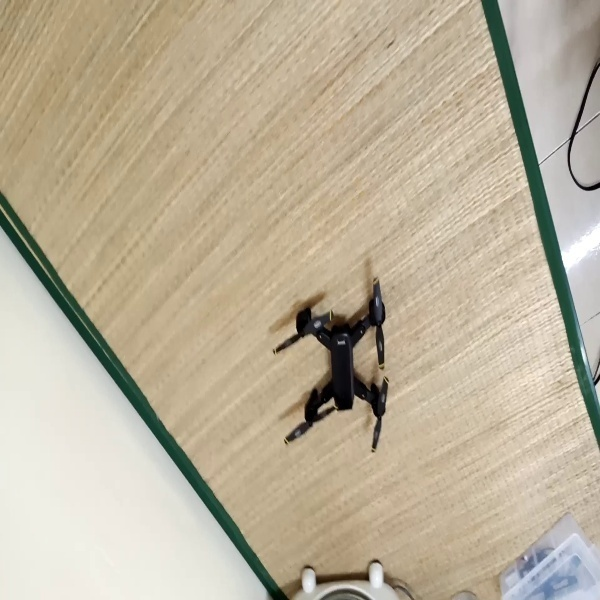drone: (268, 269, 393, 460)
